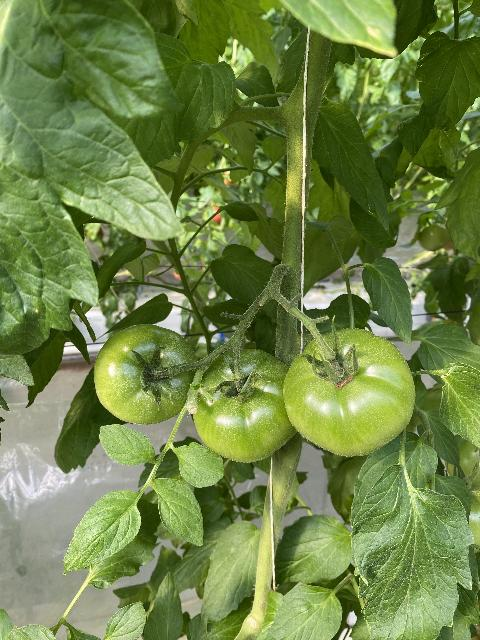b_green: (283, 328, 416, 457), (192, 348, 298, 463), (94, 323, 201, 425)
